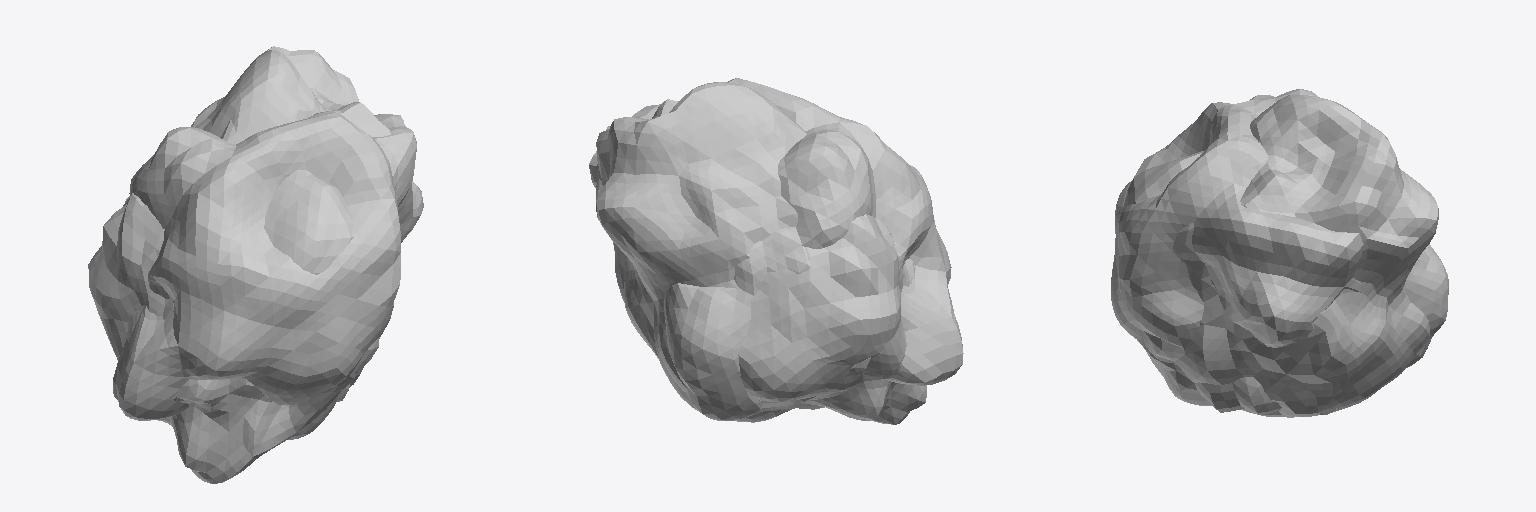
File: asteroid_5.obj
3 renders of one model, left to right at view 1: azimuth 30°, elevation 25°; view 2: azimuth 150°, elevation 25°; view 3: azimuth 270°, elevation 25°, orthographic.
Size of the model in its own units: 3.11 by 3.18 by 2.78.